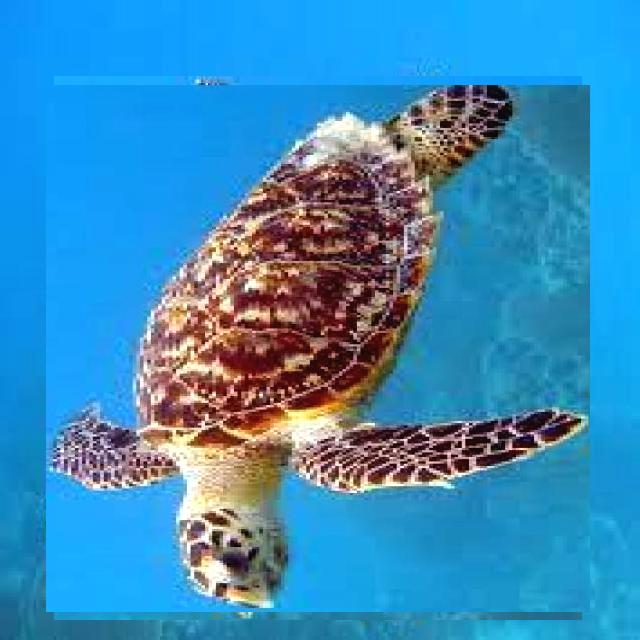Sea turtle: (50, 80, 586, 616)
